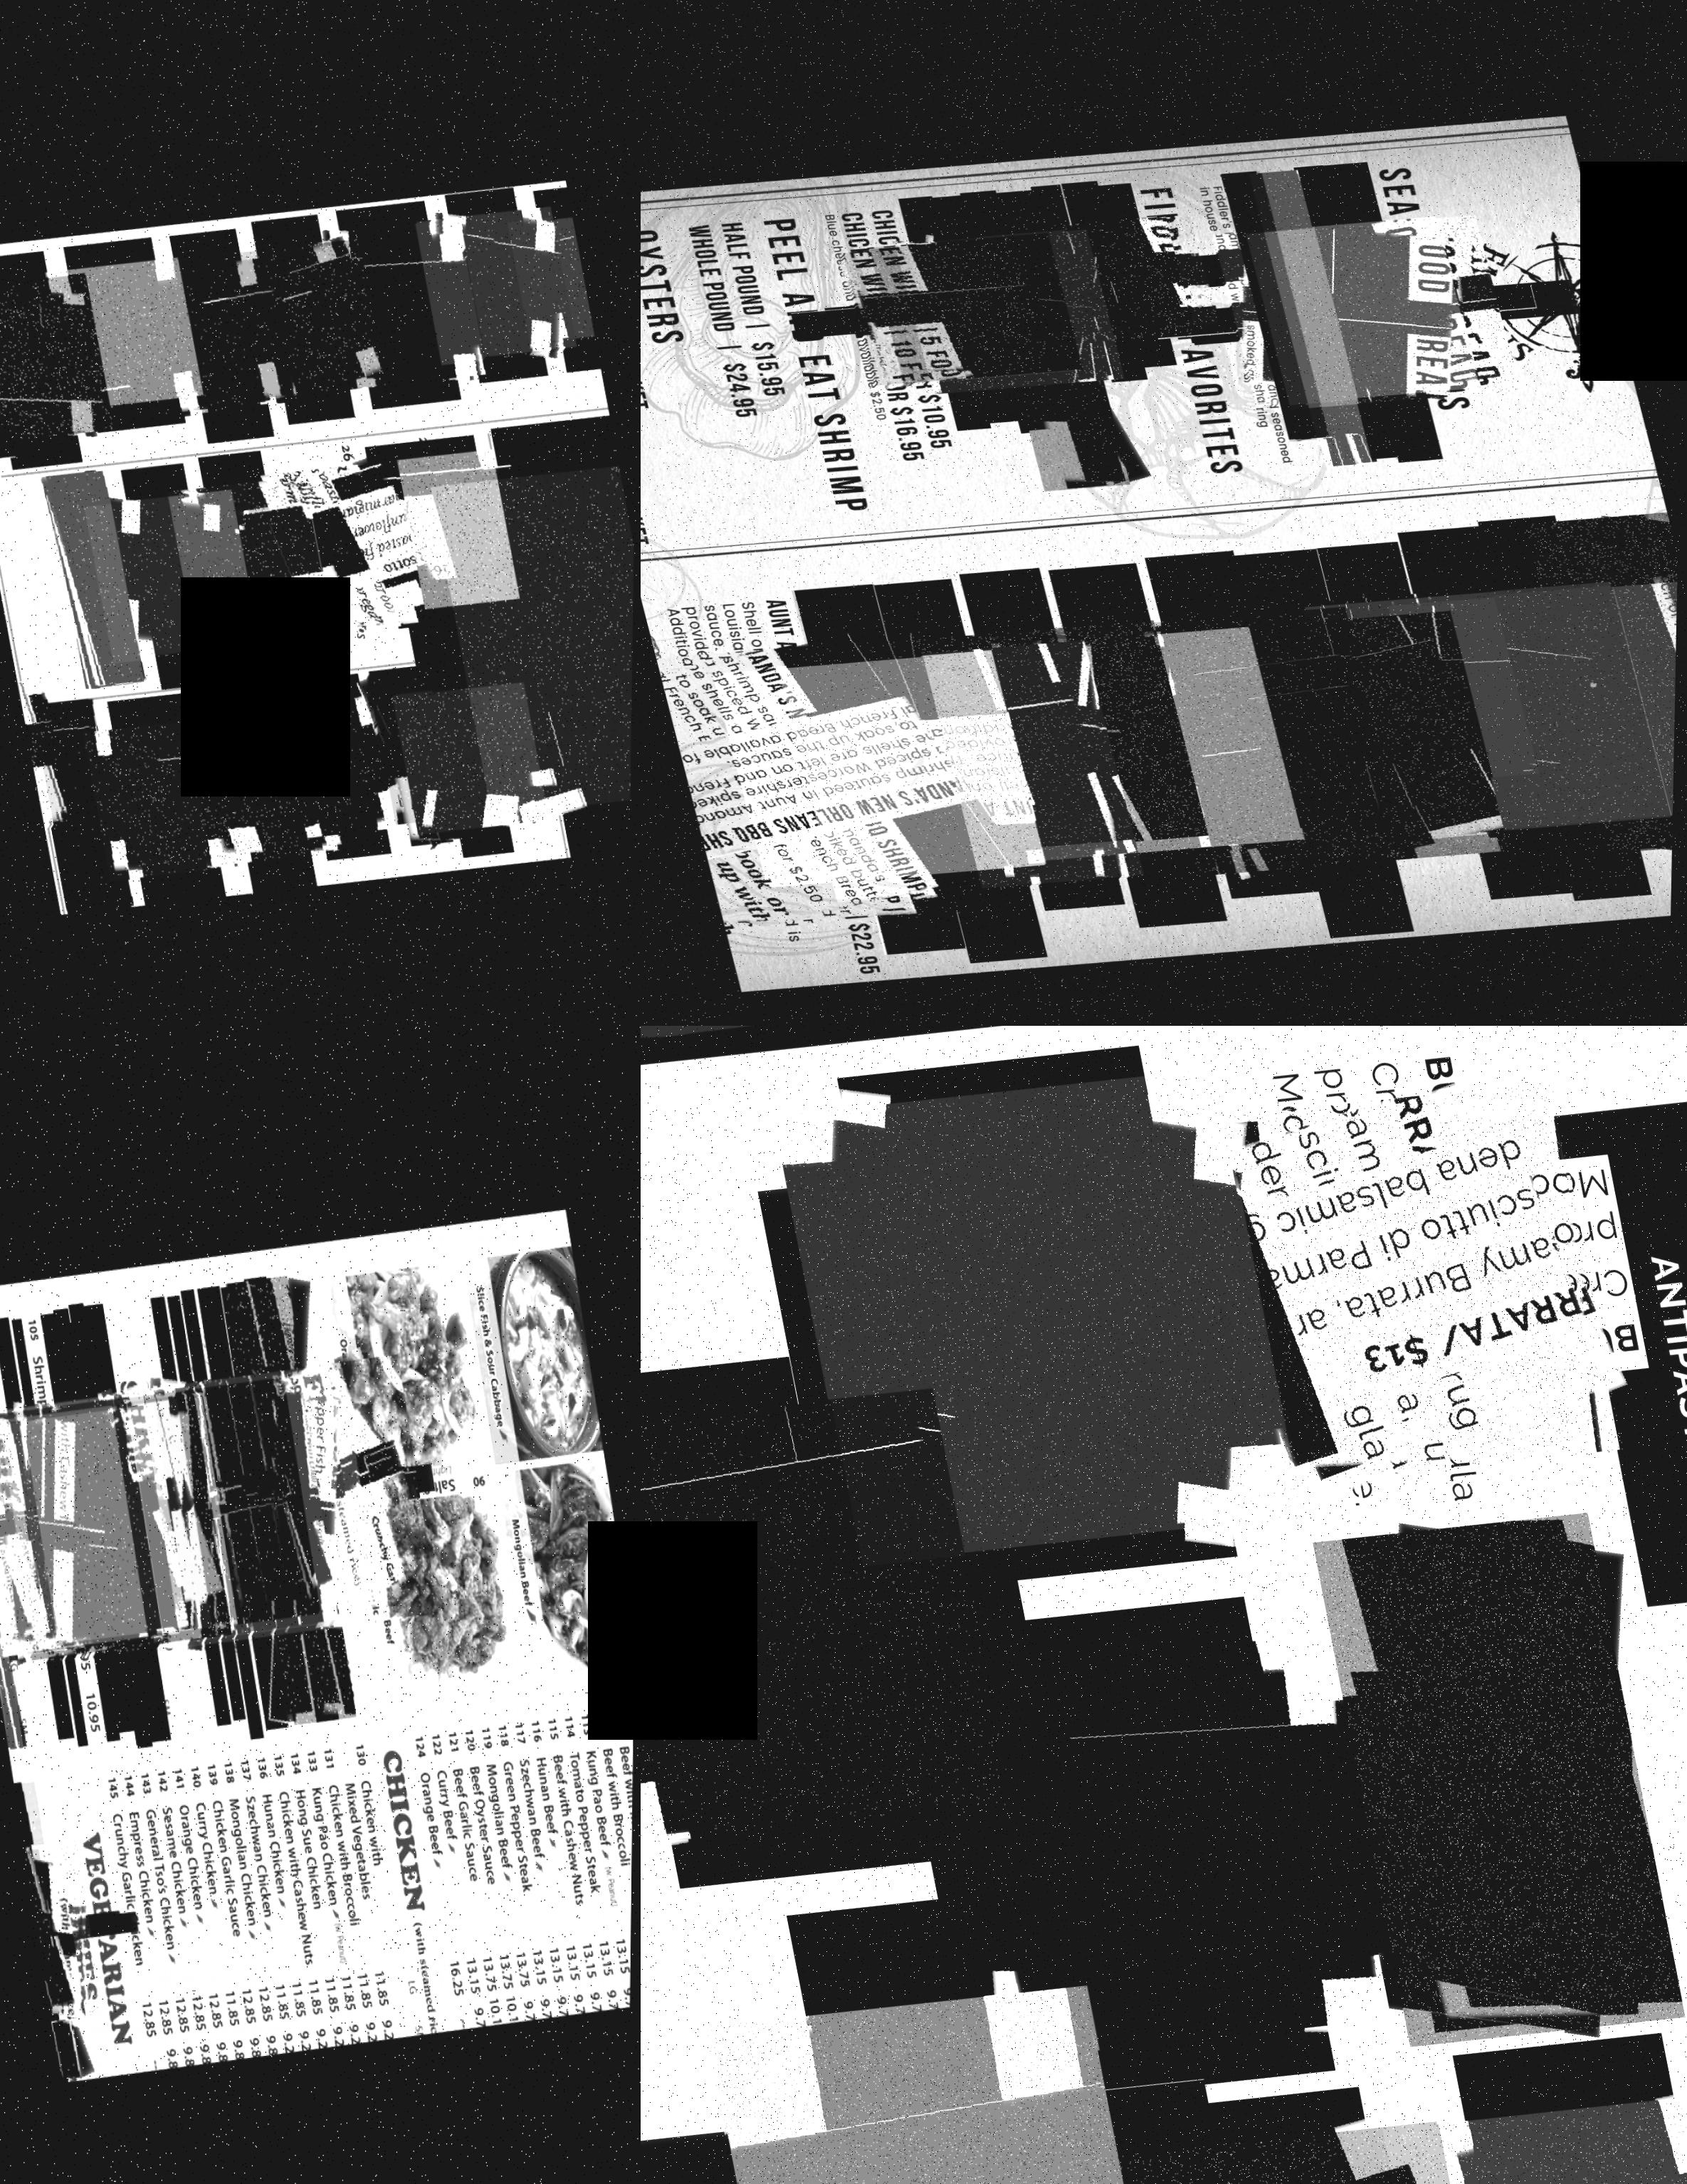Menu-Items: (769, 1026, 1308, 1589), (937, 1580, 1398, 2074), (1310, 1461, 1687, 2046), (1187, 1026, 1629, 1495), (641, 1343, 1019, 1872), (1136, 577, 1515, 886), (704, 1938, 1170, 2184), (1301, 547, 1676, 852), (776, 615, 1150, 918), (654, 616, 992, 948), (872, 595, 1214, 871), (969, 599, 1310, 875), (712, 629, 1051, 902), (1067, 579, 1403, 852), (1384, 546, 1680, 836), (188, 1323, 441, 1656), (117, 1336, 369, 1667), (427, 436, 636, 815), (670, 200, 895, 538), (103, 1350, 342, 1665), (0, 1362, 232, 1684), (1248, 558, 1543, 797), (151, 1341, 381, 1646), (90, 1351, 321, 1654), (76, 1357, 303, 1656), (14, 1371, 239, 1670), (218, 1261, 360, 1723), (0, 1364, 213, 1670), (1244, 188, 1522, 413), (1021, 2062, 1528, 2184), (1209, 190, 1481, 411), (1522, 487, 1680, 841), (0, 1376, 181, 1676), (966, 177, 1136, 492), (0, 1383, 188, 1669), (1382, 2026, 1687, 2184), (0, 1385, 163, 1674), (891, 211, 1127, 402), (0, 1380, 151, 1672), (1244, 156, 1377, 461), (241, 438, 429, 647), (865, 216, 1083, 393), (641, 213, 753, 553), (838, 223, 1051, 395), (83, 471, 264, 673), (308, 197, 487, 395), (349, 427, 523, 618), (82, 700, 255, 889), (218, 218, 388, 406), (1217, 158, 1333, 434), (136, 239, 305, 423), (167, 457, 331, 643), (413, 182, 578, 367), (186, 691, 349, 871), (44, 243, 206, 423), (392, 659, 553, 836), (1561, 553, 1680, 790), (1012, 198, 1198, 349), (831, 202, 936, 466), (333, 1720, 418, 2032), (861, 198, 966, 452), (980, 202, 1161, 347), (268, 675, 420, 843), (39, 462, 149, 693), (27, 691, 136, 918), (1051, 198, 1221, 337), (455, 1702, 530, 2010), (282, 1729, 354, 2039), (96, 1768, 170, 2069), (133, 1757, 206, 2064), (216, 1745, 289, 2049), (234, 1743, 307, 2048), (0, 266, 115, 457), (14, 1778, 87, 2081), (408, 1718, 480, 2019), (493, 1699, 564, 2005), (540, 1692, 611, 1998), (443, 1708, 514, 2012), (167, 1755, 237, 2058), (250, 1741, 321, 2044), (317, 1725, 386, 2033), (200, 1746, 269, 2053), (477, 1700, 546, 2007), (558, 1690, 627, 1994), (509, 1699, 578, 2002), (526, 1695, 594, 2000), (186, 1752, 253, 2055), (266, 1739, 333, 2041), (363, 650, 464, 848), (119, 1766, 186, 2064), (152, 1762, 220, 2060), (429, 1716, 494, 2016), (301, 1736, 365, 2035), (574, 1688, 634, 1991), (25, 1832, 108, 2025), (0, 1417, 58, 1654), (590, 1679, 634, 1986), (503, 198, 597, 340), (25, 1835, 90, 2023), (0, 1330, 28, 1750), (0, 1415, 46, 1653), (606, 1679, 636, 1982), (0, 1417, 35, 1661)
